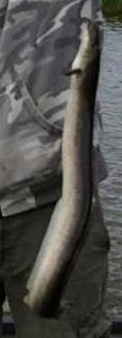Anguilla anguilla: (20, 20, 102, 318)
